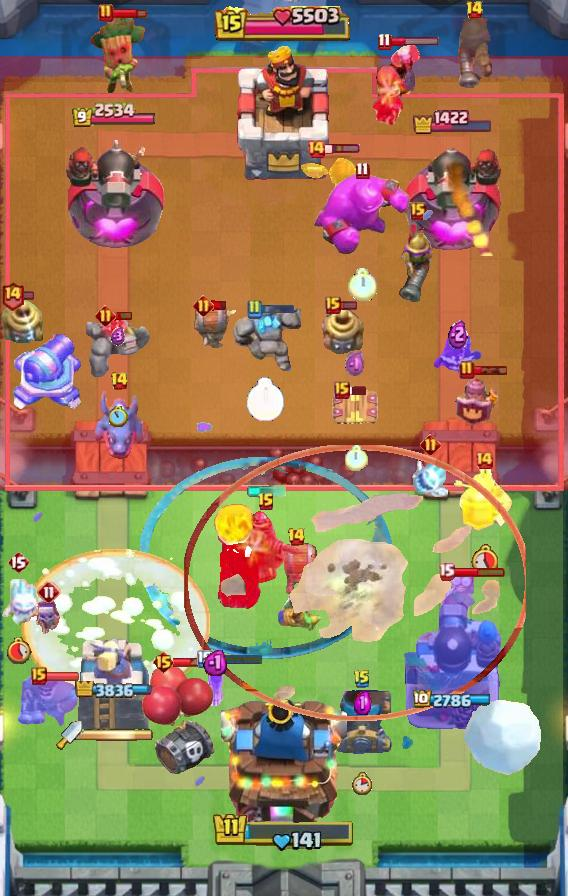bar: (211, 653, 264, 665), (453, 566, 506, 578), (389, 36, 440, 47), (324, 143, 361, 155), (173, 656, 208, 668), (112, 7, 147, 19), (44, 671, 80, 682), (473, 365, 508, 376), (260, 304, 295, 315), (348, 385, 368, 396), (113, 310, 133, 321), (339, 300, 358, 311), (16, 290, 35, 301), (211, 300, 228, 311)
bar-level: (0, 280, 25, 311), (37, 580, 61, 604), (152, 650, 175, 674), (7, 550, 29, 574), (420, 434, 441, 455), (95, 305, 116, 326), (193, 295, 214, 316), (474, 450, 494, 470), (306, 139, 326, 159), (287, 527, 306, 547), (110, 371, 129, 391), (465, 0, 484, 20), (353, 669, 371, 689), (257, 492, 275, 512), (438, 562, 455, 581), (459, 360, 475, 380), (246, 299, 262, 319), (98, 3, 114, 23), (31, 667, 47, 685), (197, 650, 213, 668), (334, 381, 350, 399), (325, 296, 341, 314), (410, 202, 426, 220), (355, 161, 370, 180), (377, 32, 392, 51)
bomber: (440, 568, 476, 620)
cannoneer-tower: (61, 132, 168, 256), (403, 601, 503, 731), (403, 138, 504, 256)
clock: (246, 377, 285, 422), (348, 268, 377, 301), (471, 544, 498, 575), (5, 636, 32, 664), (345, 445, 368, 471), (352, 772, 372, 795), (109, 406, 128, 427)
dagger-duchess-tower: (77, 637, 151, 731)
dagger-duchess-tower-bar: (82, 728, 154, 742)
dart-goblin: (89, 16, 147, 96)
electro-dragon: (92, 389, 146, 461)
electro-spirit: (432, 332, 484, 376)
elixir: (203, 648, 227, 676), (448, 318, 468, 349), (345, 350, 367, 378), (354, 691, 371, 715), (111, 327, 125, 346)
golemite: (229, 307, 301, 377), (85, 316, 151, 378)
guard: (454, 368, 502, 428)
hunter: (14, 672, 82, 730)
ice-spirit: (0, 578, 48, 626), (412, 458, 448, 498)
king-tower: (221, 690, 347, 826), (230, 43, 338, 181)
king-tower-bar: (212, 811, 356, 853), (215, 6, 354, 43)
mortar: (332, 690, 392, 754)
musketeer: (397, 218, 439, 306), (455, 14, 493, 90)
night-witch: (372, 43, 422, 129)
royal-recruit: (453, 458, 515, 534)
skeleton-evolution: (33, 601, 65, 641), (205, 659, 225, 709)
spear-goblin: (274, 588, 324, 632)
tesla: (331, 387, 381, 427)
tower-bar: (71, 102, 157, 129), (412, 109, 494, 135), (413, 690, 493, 710), (75, 681, 153, 698)
valkyrie-evolution: (300, 154, 362, 216)
wall-breaker: (271, 540, 321, 596), (189, 303, 241, 349)
zappy: (321, 304, 367, 356), (0, 300, 46, 348)
